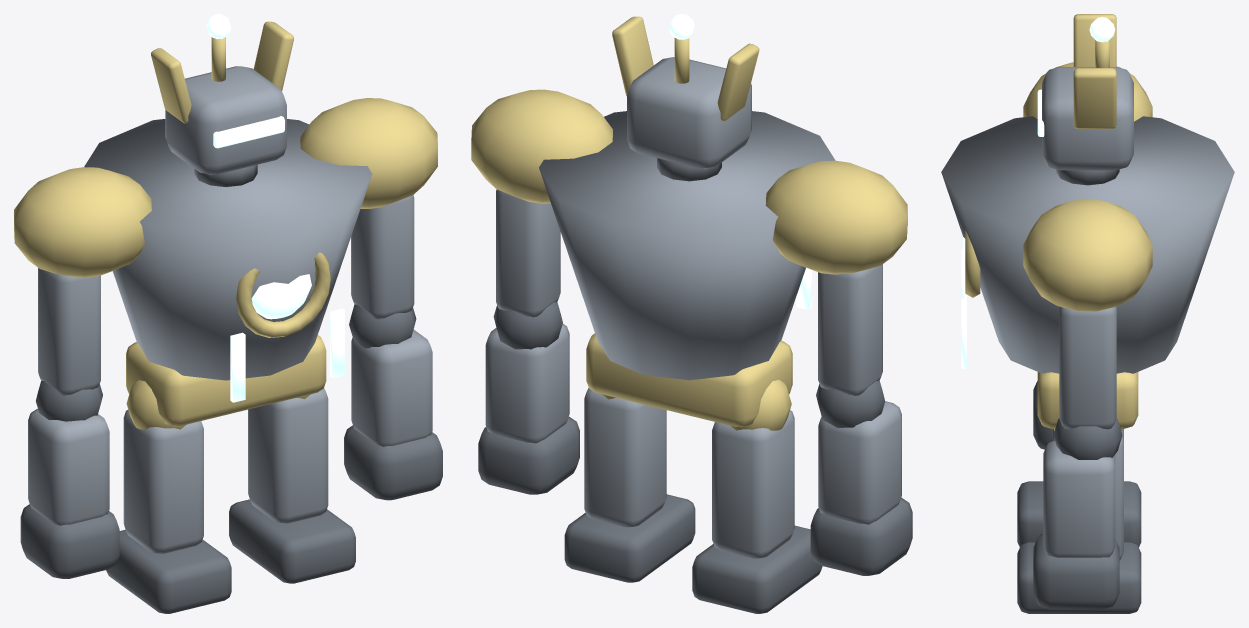
File: boss_iron_warden_v01.glb
3 renders of one model, left to right at view 1: azimuth 30°, elevation 25°; view 2: azimuth 150°, elevation 25°; view 3: azimuth 270°, elevation 25°, orthographic. The views are drawn at different scales.
Parts seen in each view (by area): view 1: boss_iron_warden_v01; view 2: boss_iron_warden_v01; view 3: boss_iron_warden_v01.
Boxes of the visible parts, x1,y1,x2,y2 form: boss_iron_warden_v01: (14, 14, 442, 613); boss_iron_warden_v01: (471, 14, 912, 613); boss_iron_warden_v01: (941, 14, 1234, 613).
Bounding box in the file's own units: 3.29 × 4.23 × 2.04.
